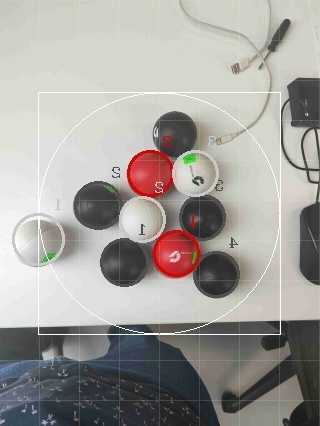Pelota blanca: (178, 0, 276, 75), (10, 212, 68, 270), (71, 180, 124, 230), (101, 236, 151, 288), (173, 148, 222, 198), (194, 249, 241, 299), (151, 110, 199, 158), (119, 196, 167, 243)
Pelota negra: (0, 337, 220, 425), (98, 236, 148, 288), (194, 249, 241, 299), (178, 196, 228, 240), (284, 398, 320, 425)
Pelota roja: (151, 228, 201, 280), (127, 148, 175, 198)
